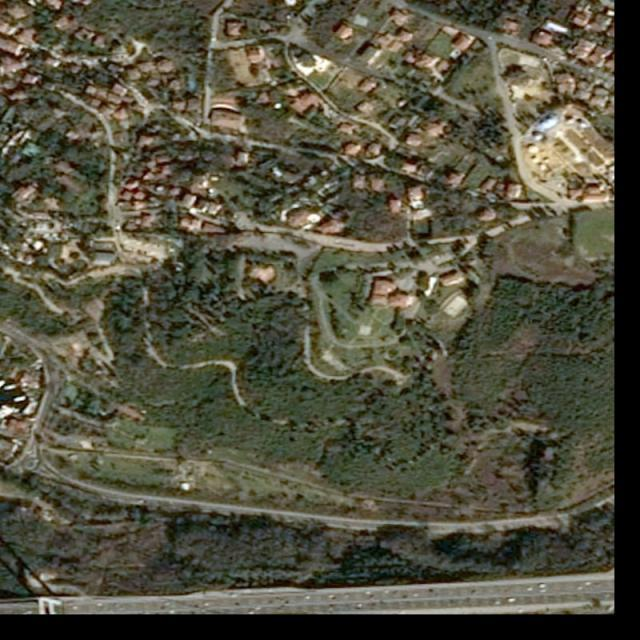ship: (12, 395, 26, 405), (2, 384, 16, 393)
